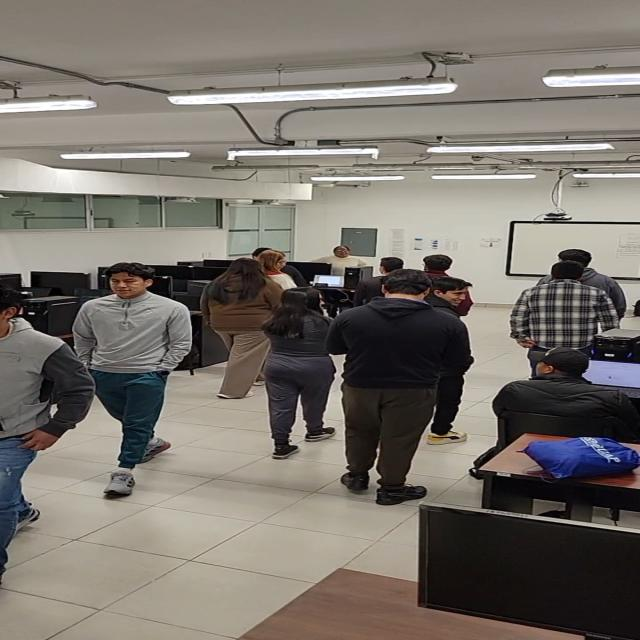Persona: (0, 287, 98, 584), (330, 267, 450, 507), (71, 261, 192, 498), (260, 285, 338, 459), (508, 261, 623, 373), (201, 257, 286, 397), (420, 274, 482, 448), (523, 251, 632, 324), (414, 254, 474, 316), (353, 255, 408, 308), (250, 246, 295, 288)
